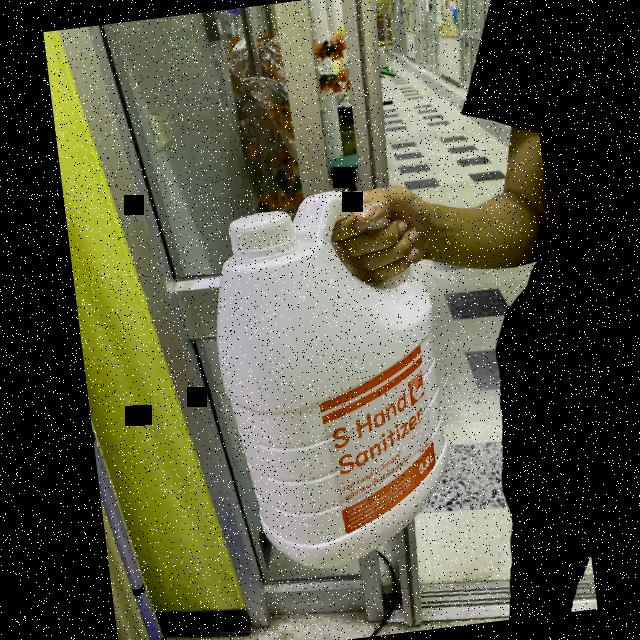chemical_plastic_gallon: (201, 180, 464, 578)
